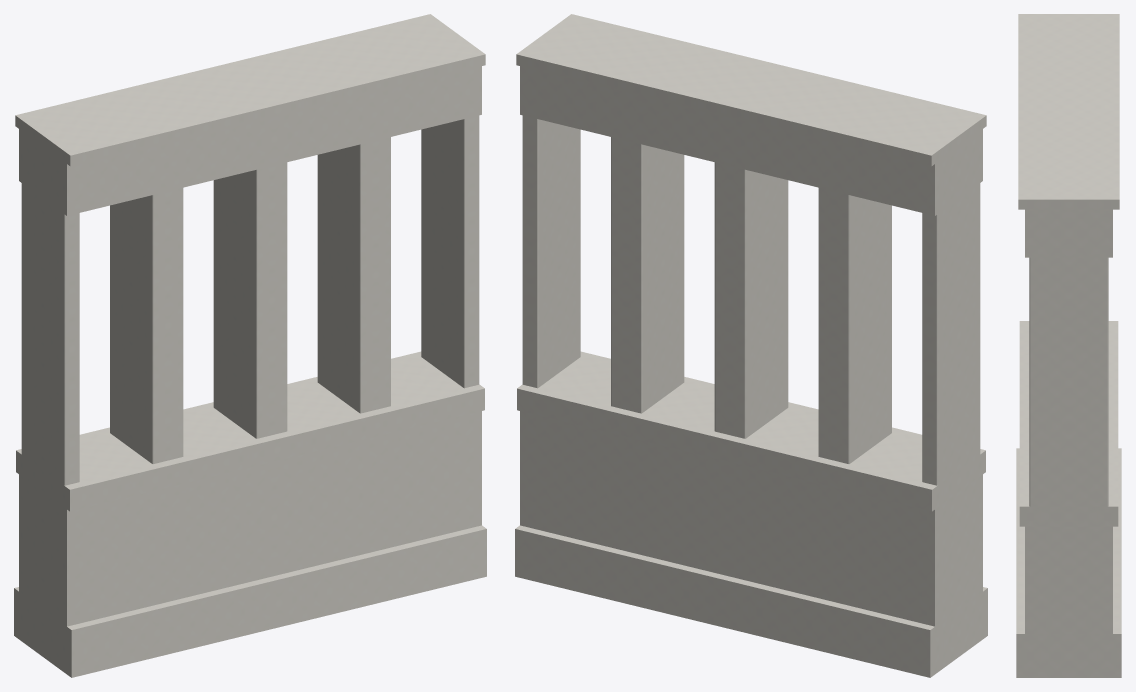
The model's file is OAR_Wall_Panel_Open_1m.fbx.
3 views of the same model, side by side, from view 1: azimuth 30°, elevation 25°; view 2: azimuth 150°, elevation 25°; view 3: azimuth 270°, elevation 25° (orthographic). The views are drawn at different scales.
Parts seen in each view (by area): view 1: Body; view 2: Body; view 3: Body.
Boxes of the visible parts, box(x1,y1,x2,y2) form: Body: box(14, 14, 486, 677); Body: box(515, 14, 987, 677); Body: box(1016, 14, 1121, 677).
Bounding box in the file's own units: 1 × 1.2 × 0.24.
